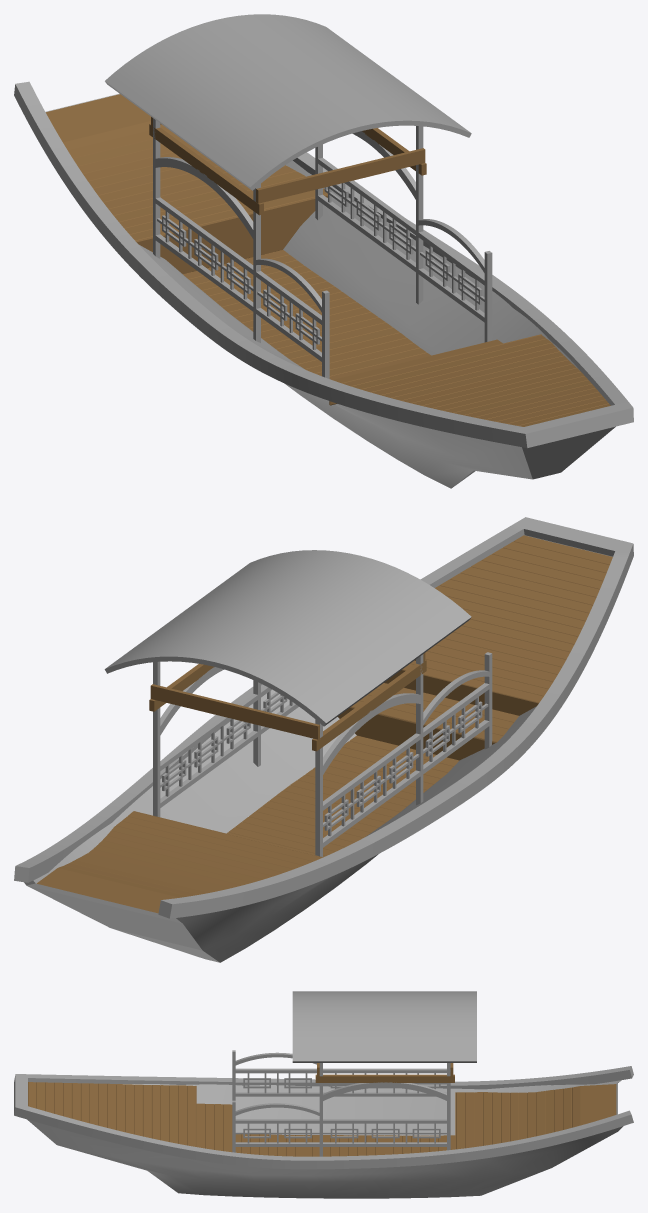
The model's file is Ship.fbx.
The picture shows the model from 3 angles, top to bottom: view 1: azimuth 30°, elevation 25°; view 2: azimuth 150°, elevation 25°; view 3: azimuth 270°, elevation 25°; orthographic projection. The views are drawn at different scales.
Visible parts, largest first — view 1: chuan:pCube10, polySurface136, group1_pCube1, transform3_64, chuan:transform3_1, polySurface132, chuan:polySurface33, chuan:polySurface46, chuan:polySurface50, chuan:polySurface131, chuan:polySurface92, chuan:transform3_45 (+40 smaller); view 2: chuan:pCube10, polySurface136, group1_pCube1, chuan:transform3_1, polySurface133, chuan:transform3_64, chuan:polySurface33, chuan:transform3_63, chuan:polySurface46, chuan:polySurface50, chuan:transform3_54, chuan:transform3_55 (+44 smaller); view 3: polySurface136, chuan:pCube10, group1_pCube1, chuan:transform3_1, chuan:polySurface46, chuan:polySurface95, chuan:polySurface92, chuan:polySurface131, chuan:polySurface94, chuan:polySurface50, chuan:transform3_45, chuan:transform3_46 (+37 smaller).
Part boxes in pixels (<box>): chuan:pCube10: <box>105,14,471,190</box>; polySurface136: <box>45,93,615,488</box>; group1_pCube1: <box>14,81,633,448</box>; transform3_64: <box>135,194,327,273</box>; chuan:transform3_1: <box>46,94,164,150</box>; polySurface132: <box>256,148,425,203</box>; chuan:polySurface33: <box>149,124,263,215</box>; chuan:polySurface46: <box>153,197,323,325</box>; chuan:polySurface50: <box>153,234,321,361</box>; chuan:polySurface131: <box>316,194,485,322</box>; chuan:polySurface92: <box>316,158,485,285</box>; chuan:transform3_45: <box>351,339,551,389</box>; chuan:pCube10: <box>104,550,471,726</box>; polySurface136: <box>24,535,612,962</box>; group1_pCube1: <box>14,517,633,918</box>; chuan:transform3_1: <box>37,866,188,913</box>; polySurface133: <box>150,684,319,739</box>; chuan:transform3_64: <box>338,706,496,760</box>; chuan:polySurface33: <box>312,660,426,751</box>; chuan:transform3_63: <box>384,669,539,715</box>; chuan:polySurface46: <box>321,683,490,811</box>; chuan:polySurface50: <box>321,720,489,848</box>; chuan:transform3_54: <box>435,585,585,629</box>; chuan:transform3_55: <box>439,579,588,621</box>; polySurface136: <box>27,1080,623,1198</box>; chuan:pCube10: <box>292,991,476,1062</box>; group1_pCube1: <box>14,1066,633,1169</box>; chuan:transform3_1: <box>572,1084,616,1127</box>; chuan:polySurface46: <box>234,1068,446,1073</box>; chuan:polySurface95: <box>315,1074,454,1082</box>; chuan:polySurface92: <box>234,1119,449,1123</box>; chuan:polySurface131: <box>234,1142,449,1146</box>; chuan:polySurface94: <box>320,1082,449,1101</box>; chuan:polySurface50: <box>234,1092,446,1096</box>; chuan:transform3_45: <box>178,1085,187,1145</box>; chuan:transform3_46: <box>169,1085,178,1143</box>.
Bounding box in the file's own units: 9.24 × 9.94 × 29.72.
